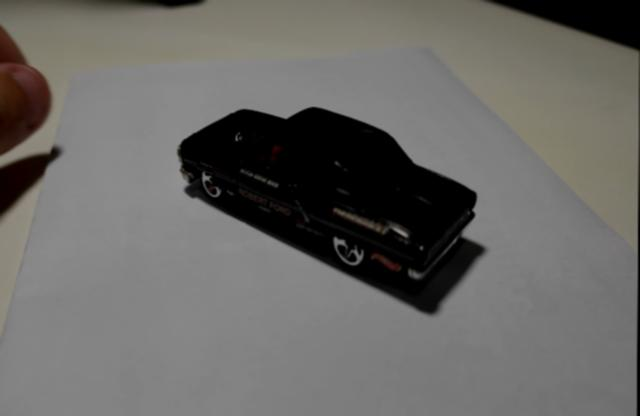01_FORD: (177, 108, 483, 315)
